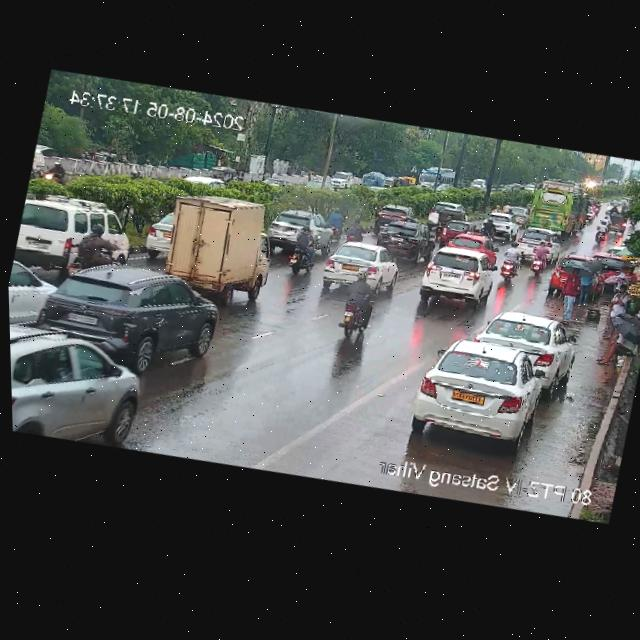bus: (525, 176, 595, 237), (415, 163, 458, 193)
car: (29, 242, 228, 378), (9, 309, 154, 457), (406, 324, 552, 454), (15, 186, 129, 280), (471, 300, 577, 386), (411, 238, 500, 318), (314, 232, 408, 303), (372, 212, 435, 264), (268, 203, 334, 250), (548, 249, 580, 294), (513, 222, 559, 253), (478, 208, 517, 241), (429, 197, 469, 224), (438, 216, 476, 241), (435, 207, 465, 230), (606, 209, 628, 236)
motorcycle: (56, 218, 123, 284), (334, 260, 381, 340), (279, 221, 324, 283), (493, 240, 525, 284), (527, 241, 552, 278), (341, 211, 369, 244), (42, 159, 73, 187), (593, 220, 609, 247), (601, 214, 609, 222)
person: (601, 323, 638, 372), (556, 264, 589, 318), (600, 283, 629, 342), (575, 262, 599, 308), (618, 262, 640, 285)
truck: (139, 177, 285, 312)
